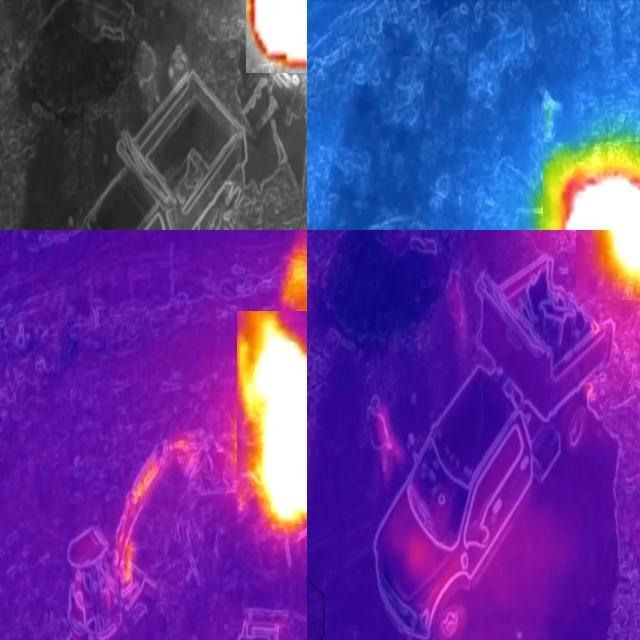fire: (237, 312, 308, 525), (544, 143, 640, 231), (247, 1, 308, 74)
